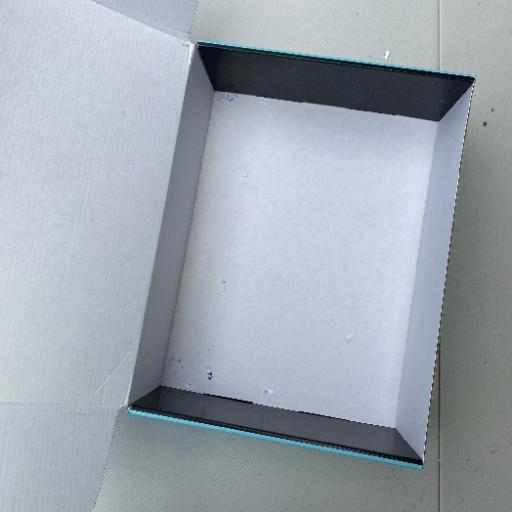Cardboard: (128, 40, 477, 469)
